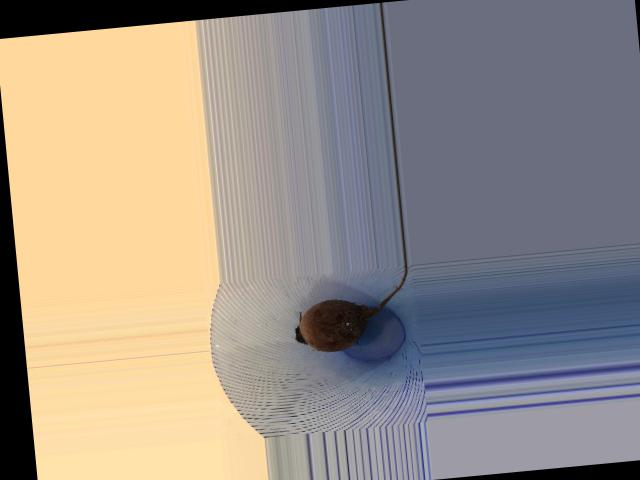beet: (288, 264, 413, 355)
